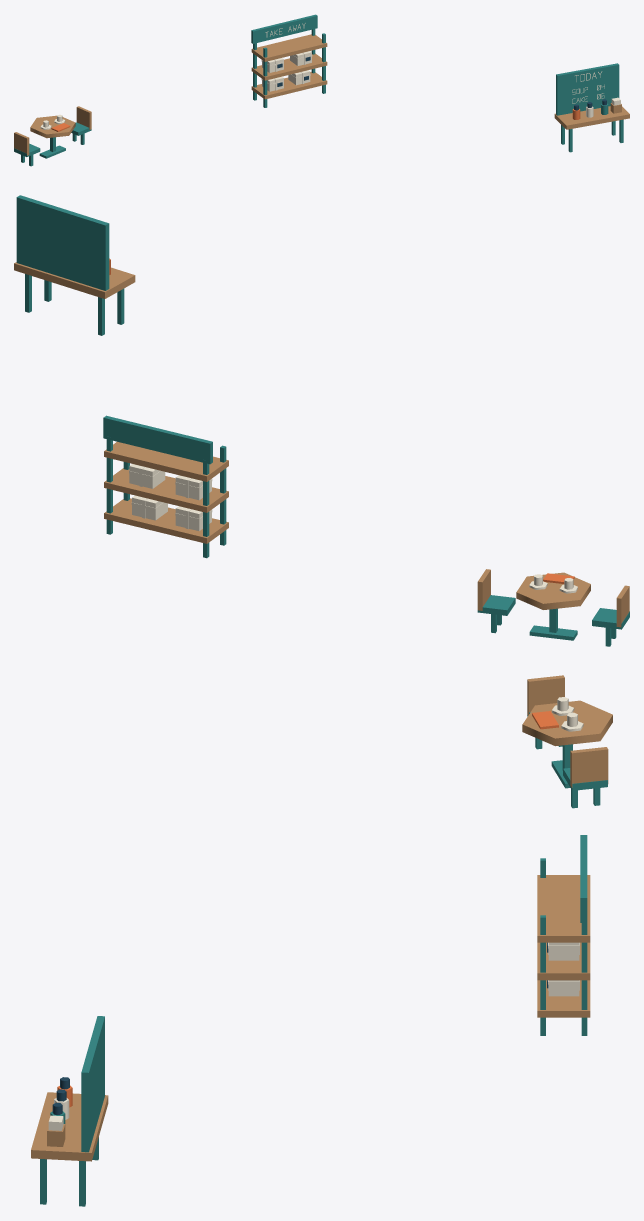
The model's file is catering.glb.
The picture shows the model from 3 angles, top to bottom: view 1: azimuth 30°, elevation 25°; view 2: azimuth 150°, elevation 25°; view 3: azimuth 270°, elevation 25°; orthographic projection. The views are drawn at different scales.
Parts seen in each view (by area): view 1: static_detail_teal, static_detail_wood, static_detail_ivory; view 2: static_detail_teal, static_detail_wood, static_detail_ivory; view 3: static_detail_wood, static_detail_teal, static_detail_ivory.
Part boxes in pixels (left/top/right/bottom): static_detail_teal: left=14, top=14, right=623, bottom=166; static_detail_wood: left=14, top=34, right=629, bottom=155; static_detail_ivory: left=40, top=23, right=620, bottom=129; static_detail_teal: left=16, top=195, right=629, bottom=646; static_detail_wood: left=14, top=262, right=629, bottom=627; static_detail_ivory: left=129, top=464, right=577, bottom=593; static_detail_wood: left=31, top=675, right=612, bottom=1161; static_detail_teal: left=40, top=712, right=607, bottom=1206; static_detail_ivory: left=48, top=697, right=583, bottom=1130.
Bounding box in the file's own units: 14.65 × 2.01 × 7.6.
